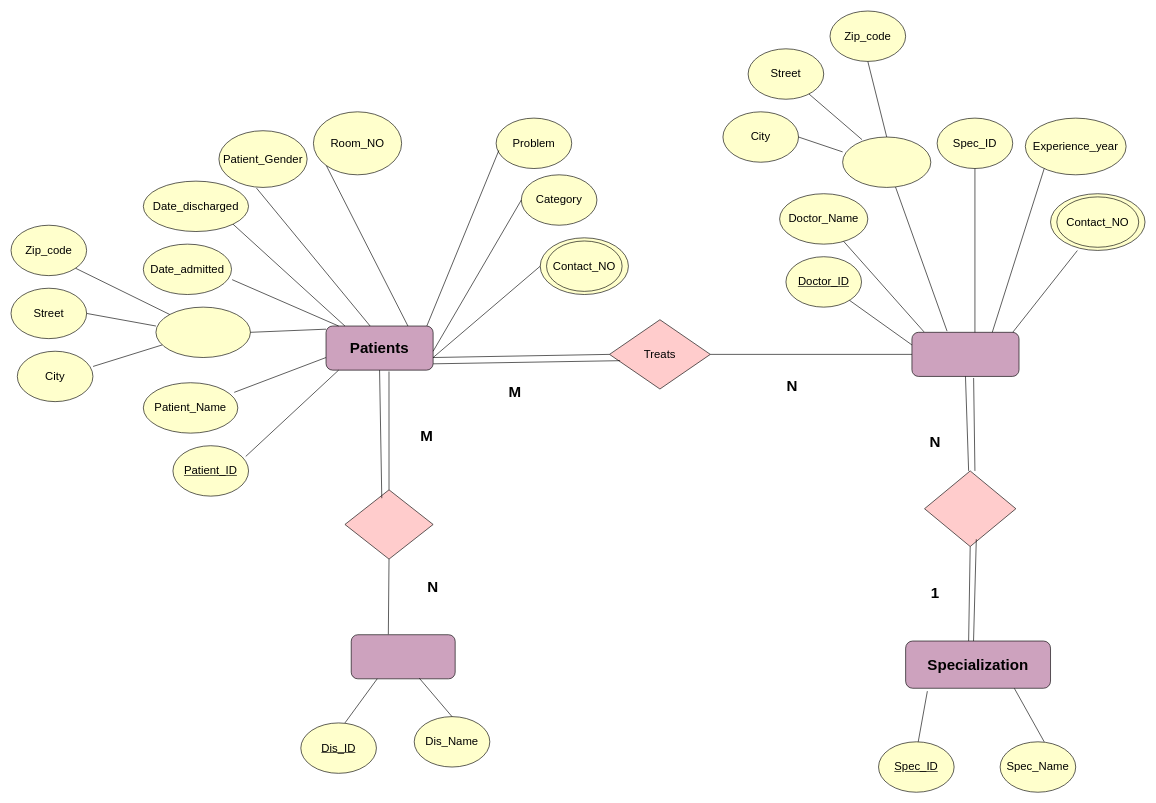
Some shapes in this 1156 by 803 pixel diagram are drawn without their labels. Each missing label, with the centre of its shape:
"Disease" belongs at point 403,656.
"Doctor_Address" belongs at point 886,161.
"Doctors" belongs at point 965,354.
"Has" belongs at point 388,524.
"Patient_Address" belongs at point 202,332.
"Specialized" belongs at point 970,508.
